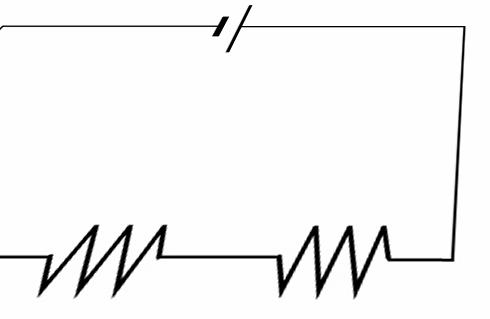resistor: (251, 207, 399, 304), (27, 219, 179, 300)
